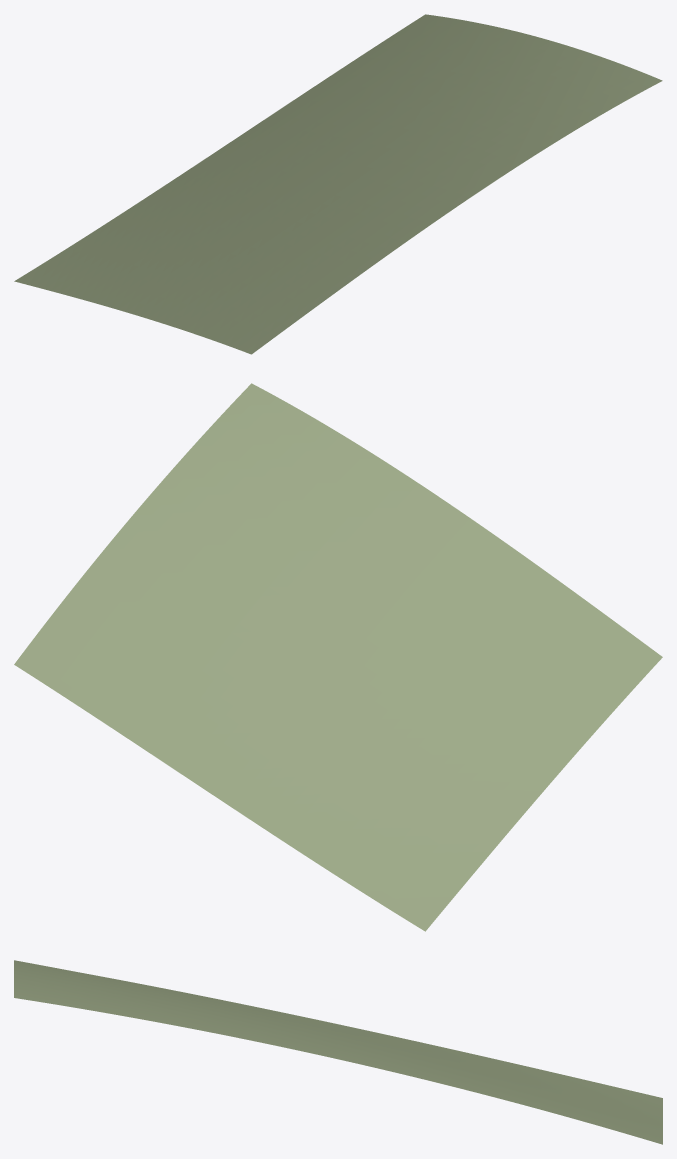
Rendered from expanse-13-4.glb.
3 views of the same model, one above another, from view 1: azimuth 30°, elevation 25°; view 2: azimuth 150°, elevation 25°; view 3: azimuth 270°, elevation 25° (orthographic). The views are drawn at different scales.
Parts seen in each view (by area): view 1: expanse-13-4; view 2: expanse-13-4; view 3: expanse-13-4.
Boxes of the visible parts, x1=… form: expanse-13-4: x1=14, y1=14, x2=662, y2=354; expanse-13-4: x1=14, y1=383, x2=662, y2=931; expanse-13-4: x1=14, y1=960, x2=662, y2=1144.
Bounding box in the file's own units: 256 × 163 × 256.
